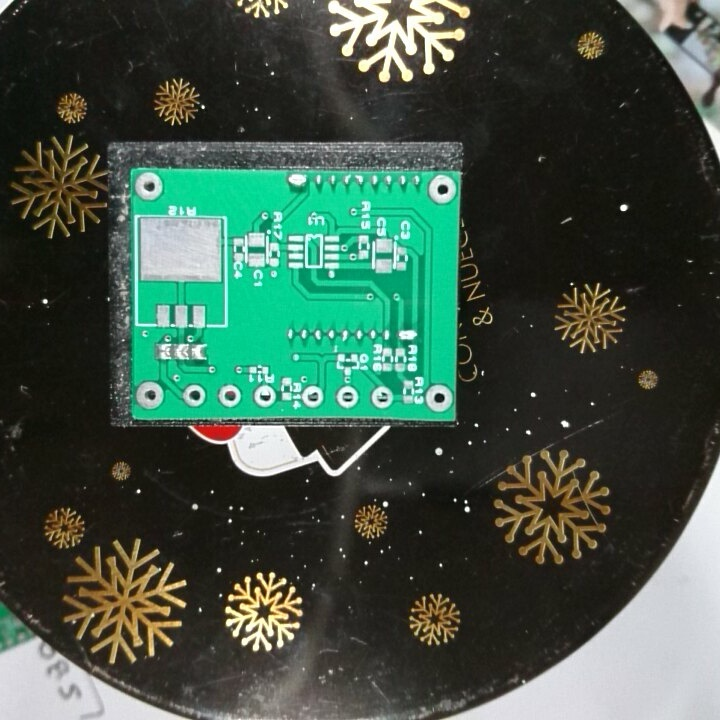F: (134, 378, 167, 412), (134, 169, 165, 205), (427, 174, 458, 206), (425, 383, 454, 413), (179, 381, 208, 408), (216, 382, 243, 411), (252, 382, 278, 411), (335, 384, 361, 409), (368, 385, 393, 410), (300, 384, 323, 411)
P: (285, 172, 310, 190), (397, 326, 419, 343)
